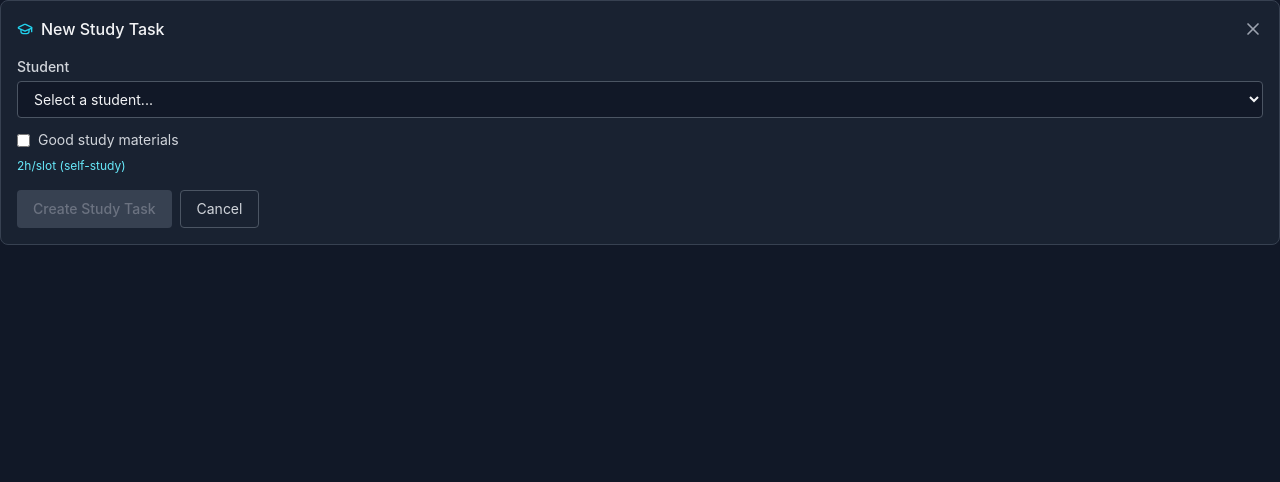
StudyTaskForm › reveals editable fields for a new skill with IQ/A defaults
The image size is (1280, 482).
Select "Rina" in the dropdown with test id "leader-select" at x=640, y=100, box 17,81 -> 1263,118
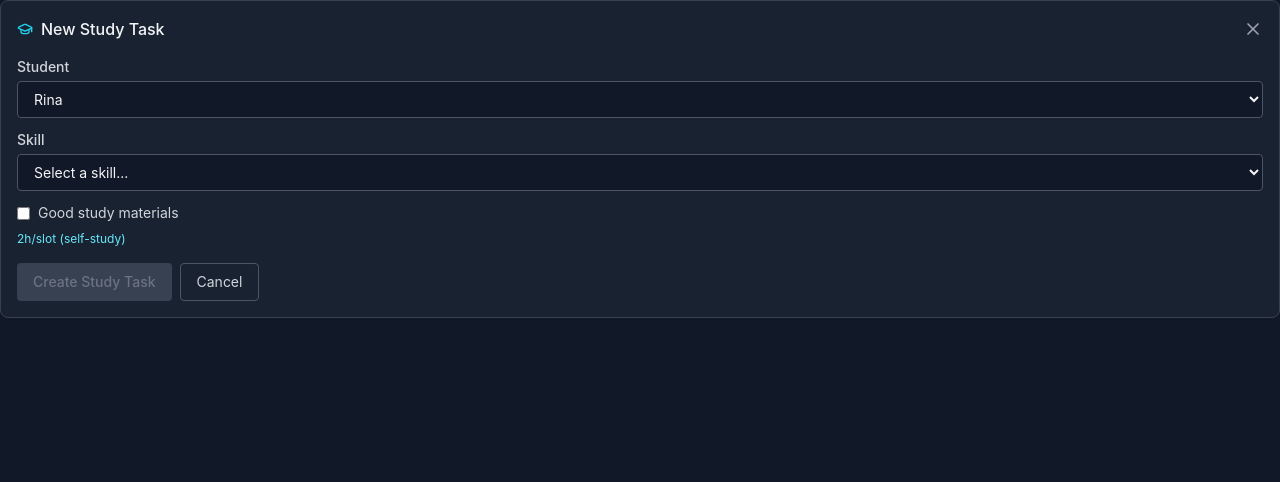
Select "New skill…" in the dropdown with test id "skill-select" at x=640, y=172, box 17,154 -> 1263,191
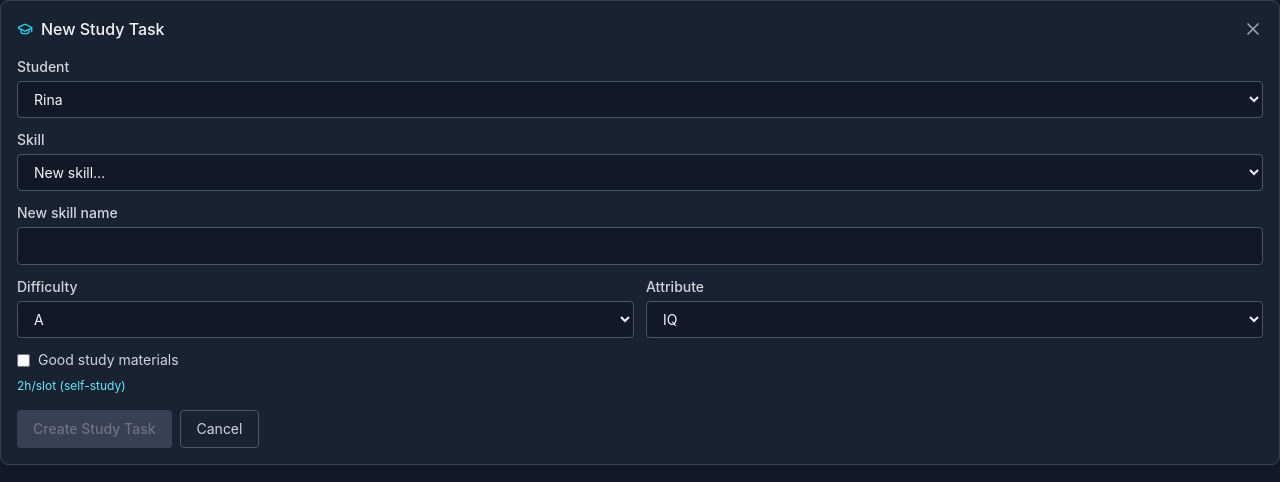
Check: the field with test id "new-skill-name-input" is shown, box 17,227 -> 1263,265
Check: the dropdown with test id "attribute-select" shows "IQ", box 646,301 -> 1263,338
Check: the dropdown with test id "difficulty-select" shows "A", box 17,301 -> 634,338
